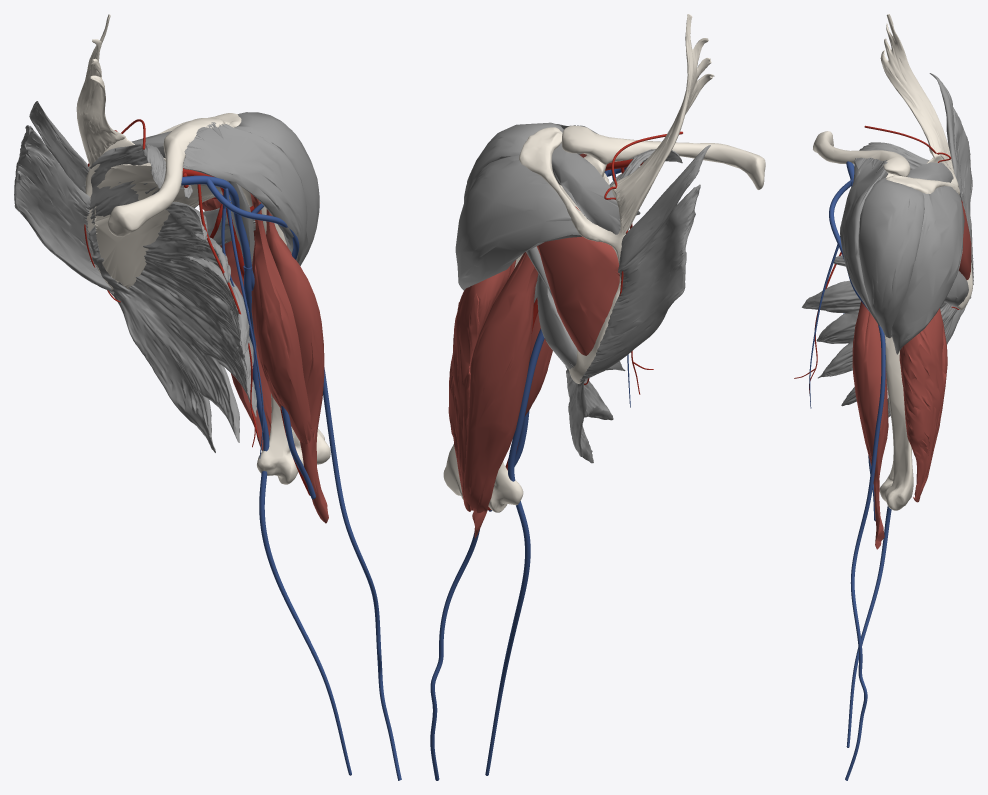
Rendered from shoulder_left.glb.
The picture shows the model from 3 angles, left to right: view 1: azimuth 30°, elevation 25°; view 2: azimuth 150°, elevation 25°; view 3: azimuth 270°, elevation 25°; orthographic projection. The views are drawn at different scales.
Visible parts, largest first — view 1: left serratus anterior, clavicular part of left deltoid, left rhomboid major, short head of left biceps brachii, long head of left biceps brachii, left subscapularis, left clavicle, acromial part of left deltoid, left cephalic vein, left levator scapulae, left basilic vein, left humerus (+7 smaller); view 2: long head of left triceps brachii, spinal part of left deltoid, left rhomboid major, left infraspinatus muscle, lateral head of left triceps brachii, left scapula, left clavicle, left levator scapulae, left supraspinatus, left serratus anterior, left basilic vein, left rhomboid minor (+5 smaller); view 3: acromial part of left deltoid, spinal part of left deltoid, lateral head of left triceps brachii, left serratus anterior, long head of left biceps brachii, left humerus, left levator scapulae, clavicular part of left deltoid, left cephalic vein, left clavicle, left rhomboid major, left scapula (+7 smaller).
Part boxes in pixels (x1,y1,x2,y2): left serratus anterior: [88, 144, 256, 452]; clavicular part of left deltoid: [183, 122, 307, 262]; left rhomboid major: [14, 125, 112, 292]; short head of left biceps brachii: [250, 193, 311, 444]; long head of left biceps brachii: [266, 209, 328, 523]; left subscapularis: [94, 162, 226, 289]; left clavicle: [107, 118, 223, 236]; acromial part of left deltoid: [234, 112, 319, 265]; left cephalic vein: [206, 178, 401, 780]; left levator scapulae: [76, 14, 125, 165]; left basilic vein: [244, 266, 351, 775]; left humerus: [241, 186, 330, 484]; long head of left triceps brachii: [462, 252, 538, 512]; spinal part of left deltoid: [455, 154, 581, 290]; left rhomboid major: [580, 184, 700, 382]; left infraspinatus muscle: [537, 206, 619, 355]; lateral head of left triceps brachii: [448, 260, 516, 511]; left scapula: [519, 127, 625, 383]; left clavicle: [561, 125, 765, 189]; left levator scapulae: [611, 14, 714, 234]; left supraspinatus: [551, 143, 620, 234]; left serratus anterior: [565, 149, 682, 463]; left basilic vein: [485, 328, 544, 775]; left rhomboid minor: [618, 145, 710, 272]; acromial part of left deltoid: [859, 177, 924, 338]; spinal part of left deltoid: [891, 186, 964, 354]; lateral head of left triceps brachii: [899, 310, 946, 502]; left serratus anterior: [802, 142, 971, 417]; long head of left biceps brachii: [852, 302, 888, 549]; left humerus: [879, 335, 913, 510]; left levator scapulae: [880, 14, 954, 173]; clavicular part of left deltoid: [840, 157, 887, 326]; left cephalic vein: [829, 179, 885, 780]; left clavicle: [813, 131, 910, 176]; left rhomboid major: [953, 107, 973, 298]; left scapula: [886, 154, 972, 309].
Bounding box in the file's own units: 0.28 × 0.6941 × 0.171.
